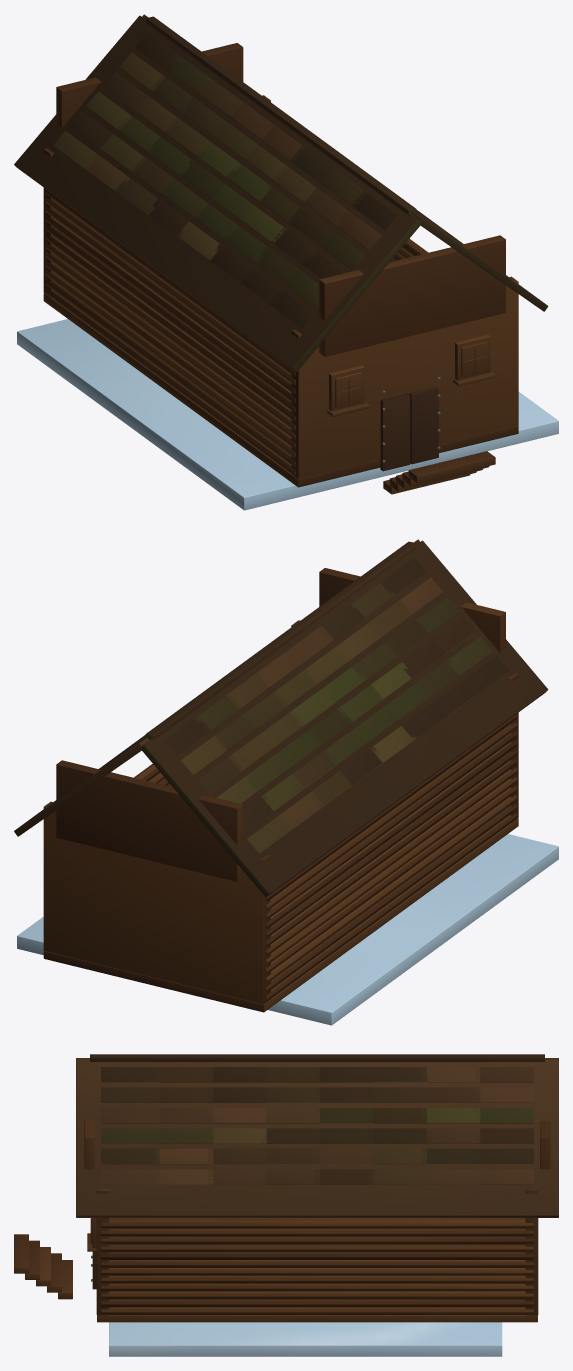
File: building_outcast_village_hall.fbx
The picture shows the model from 3 angles, top to bottom: view 1: azimuth 30°, elevation 25°; view 2: azimuth 150°, elevation 25°; view 3: azimuth 270°, elevation 25°; orthographic projection. The views are drawn at different scales.
Parts seen in each view (by area): view 1: building_outcast_village_hall; view 2: building_outcast_village_hall; view 3: building_outcast_village_hall.
Boxes of the visible parts, left/top/right/bottom form: building_outcast_village_hall: left=14, top=14, right=558, bottom=510; building_outcast_village_hall: left=14, top=539, right=558, bottom=1025; building_outcast_village_hall: left=14, top=1054, right=558, bottom=1356.
Bounding box in the file's own units: 8 × 6.57 × 13.85.
